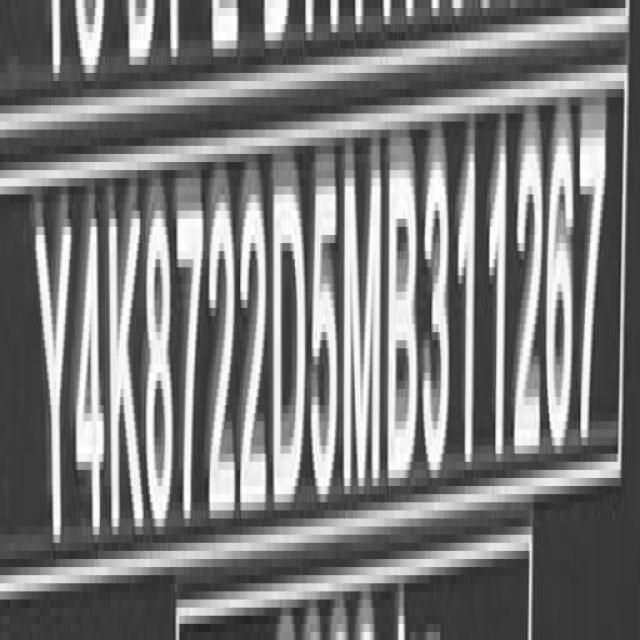1: (484, 107, 512, 479), (456, 113, 482, 479)
2: (514, 100, 545, 467), (237, 160, 268, 525), (208, 173, 239, 531)
3: (421, 124, 453, 483)
4: (72, 190, 109, 552)
5: (308, 144, 342, 505)
6: (546, 97, 578, 460)
7: (576, 93, 609, 457), (178, 173, 206, 533)
8: (145, 173, 173, 538)
B: (387, 132, 422, 488)
D: (273, 151, 308, 514)
K: (110, 188, 144, 550)
M: (345, 144, 385, 502)
Y: (34, 186, 72, 556)
